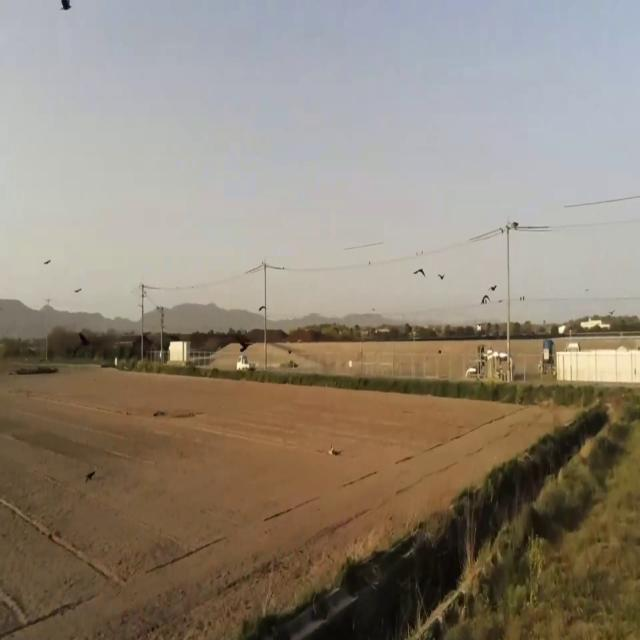bird: (413, 261, 426, 283), (60, 0, 71, 18), (488, 279, 498, 297), (480, 290, 489, 308), (438, 268, 445, 288), (75, 281, 82, 299)
